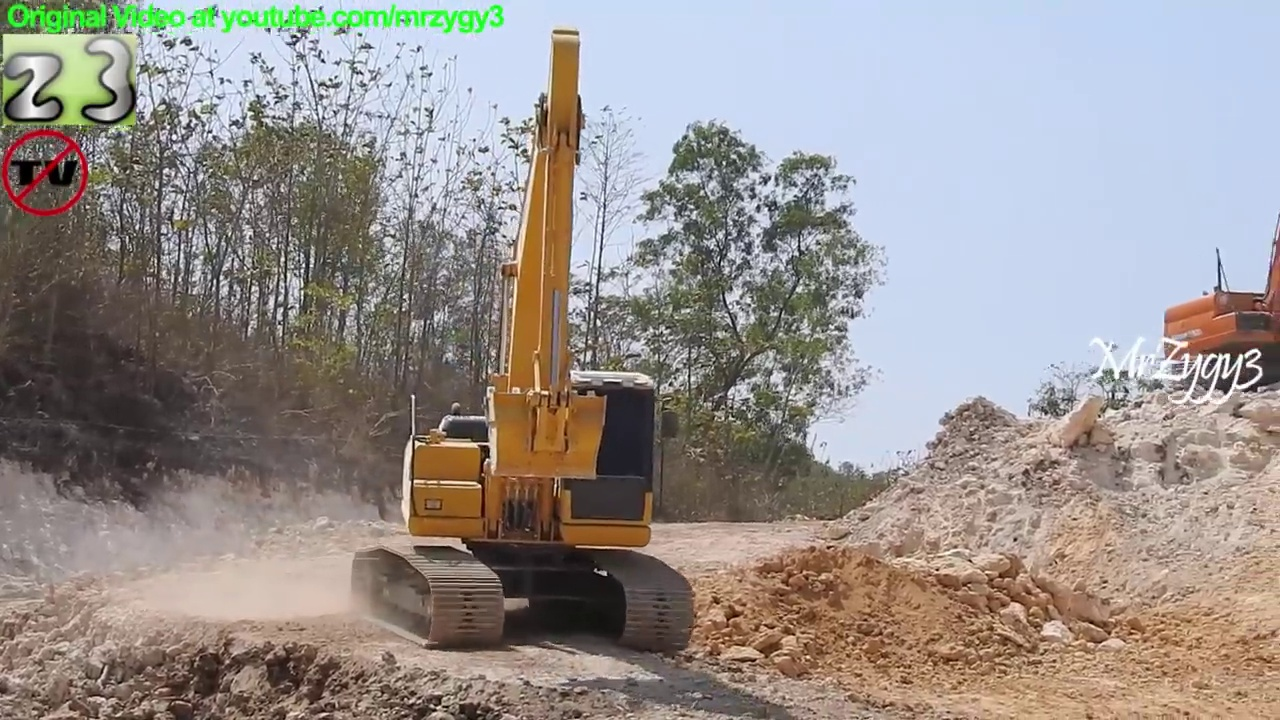excavator: (344, 27, 700, 658), (1153, 206, 1280, 399)
